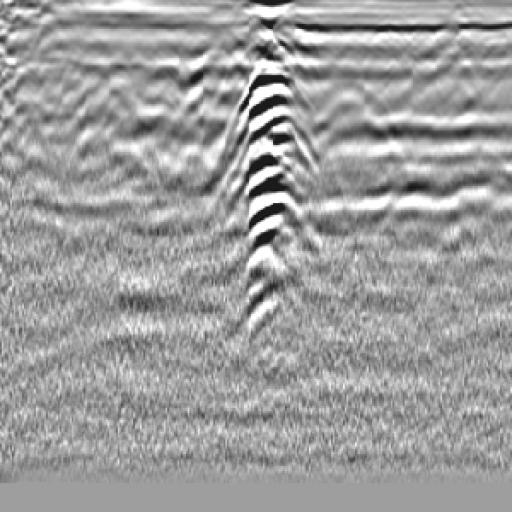metalic: (205, 24, 331, 346)
nonmetalic: (295, 66, 435, 181)
